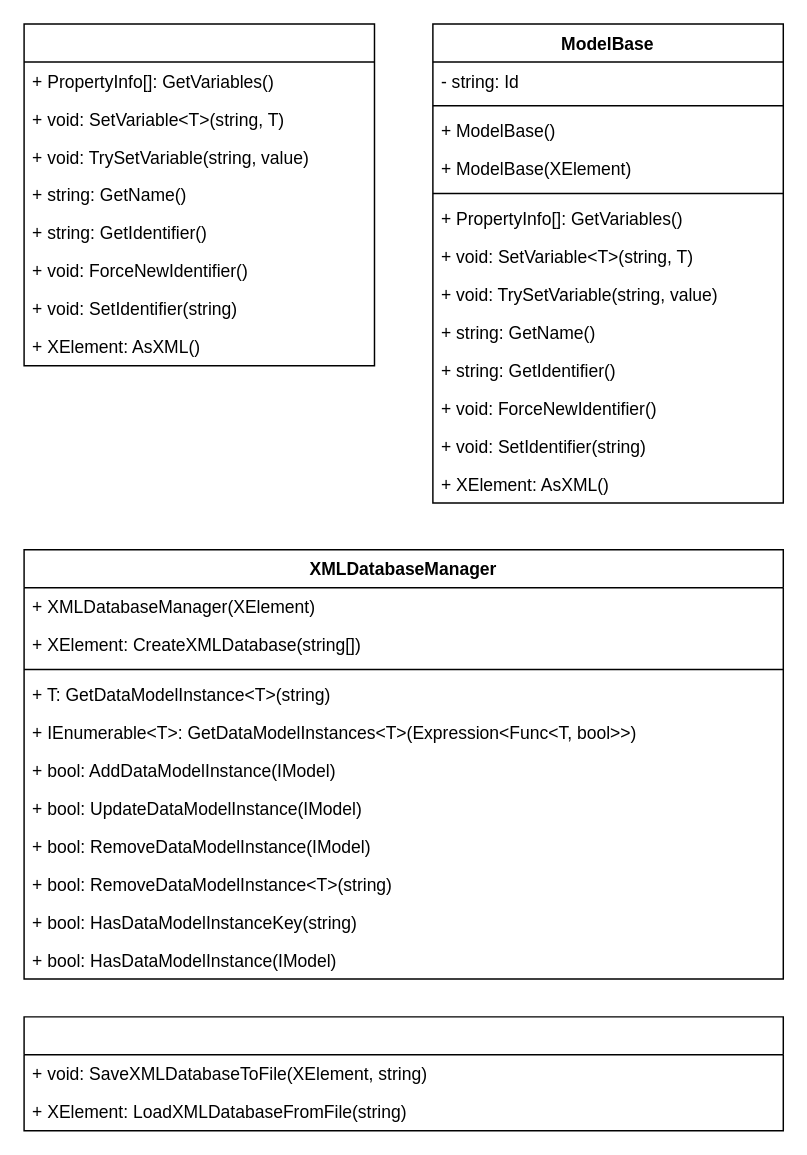
Some shapes in this 807 by 1155 pixel diagram are drawn without their labels. Each missing label, with the box of its shape:
IModel: (23, 23, 374, 366)
XMLDatabaseFileManager: (23, 1015, 783, 1131)
